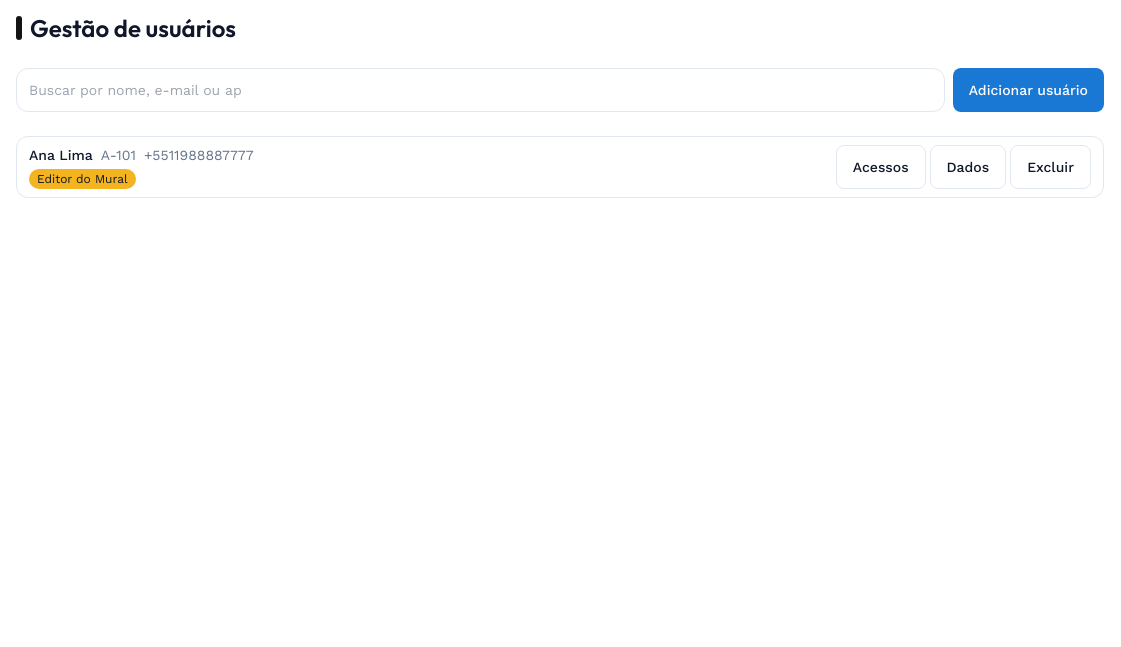
AccessManagementPage › criar usuário avisa que o link para criar a senha foi pelo WhatsApp (sem senha)
Expected: the text "Ana Lima" is shown, top-left (29, 145), bottom-right (93, 165)
Click the button "Adicionar usuário".
click(1028, 90)  # box top-left (953, 68), bottom-right (1104, 112)
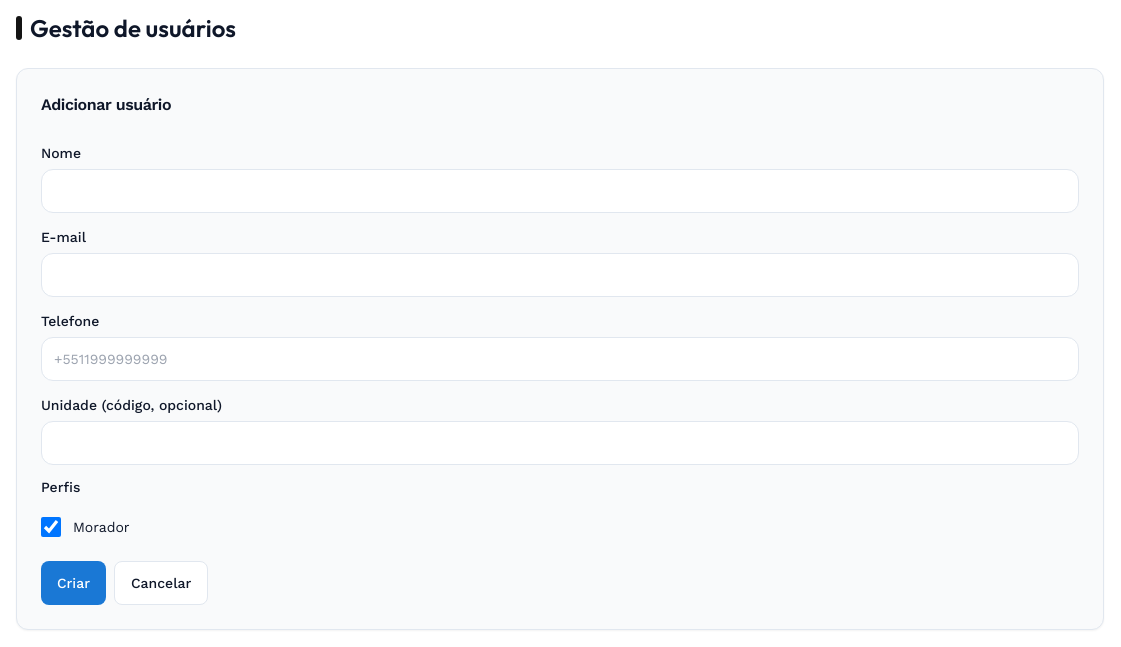
Type "Caio Reis" into the field labelled "Nome".
click(560, 191); type("Caio Reis")  # box top-left (41, 169), bottom-right (1079, 213)
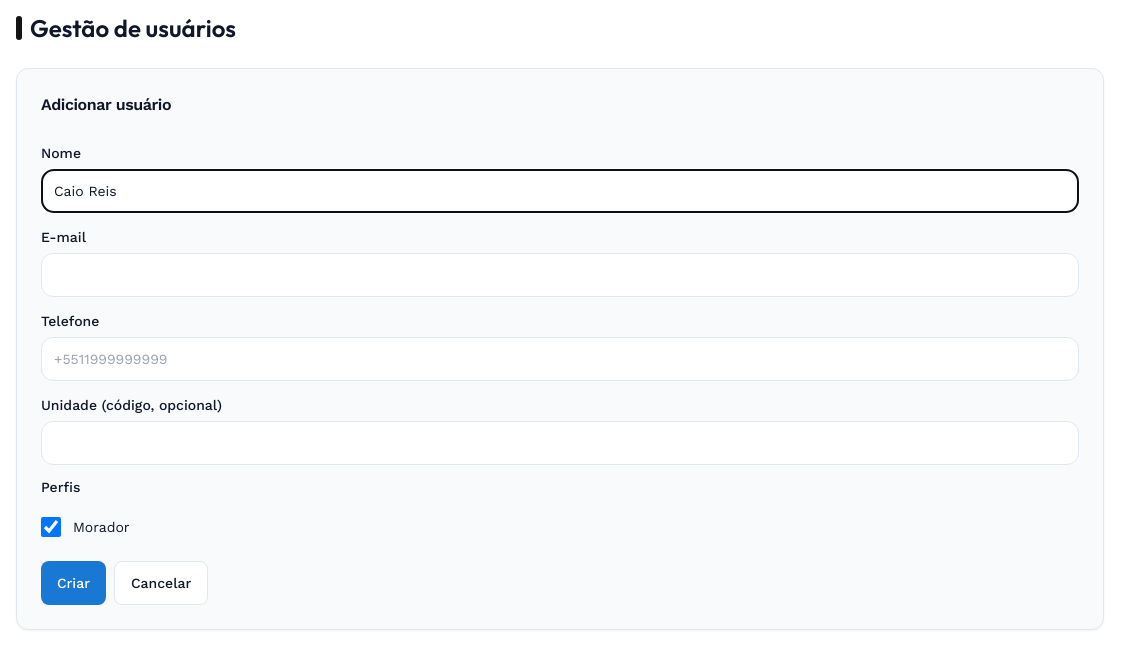
Type "caio@x.com" into the field labelled "E-mail".
click(560, 275); type("caio@x.com")  # box top-left (41, 253), bottom-right (1079, 297)
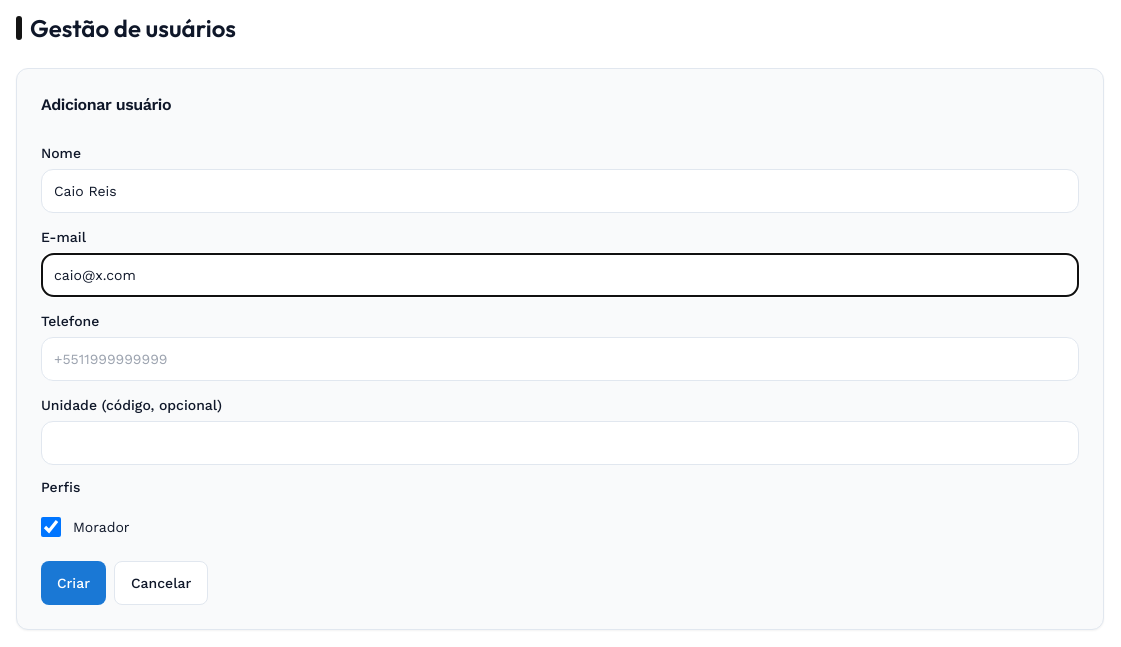
Type "+5511999994321" into the field labelled "Telefone".
click(560, 359); type("+5511999994321")  # box top-left (41, 337), bottom-right (1079, 381)
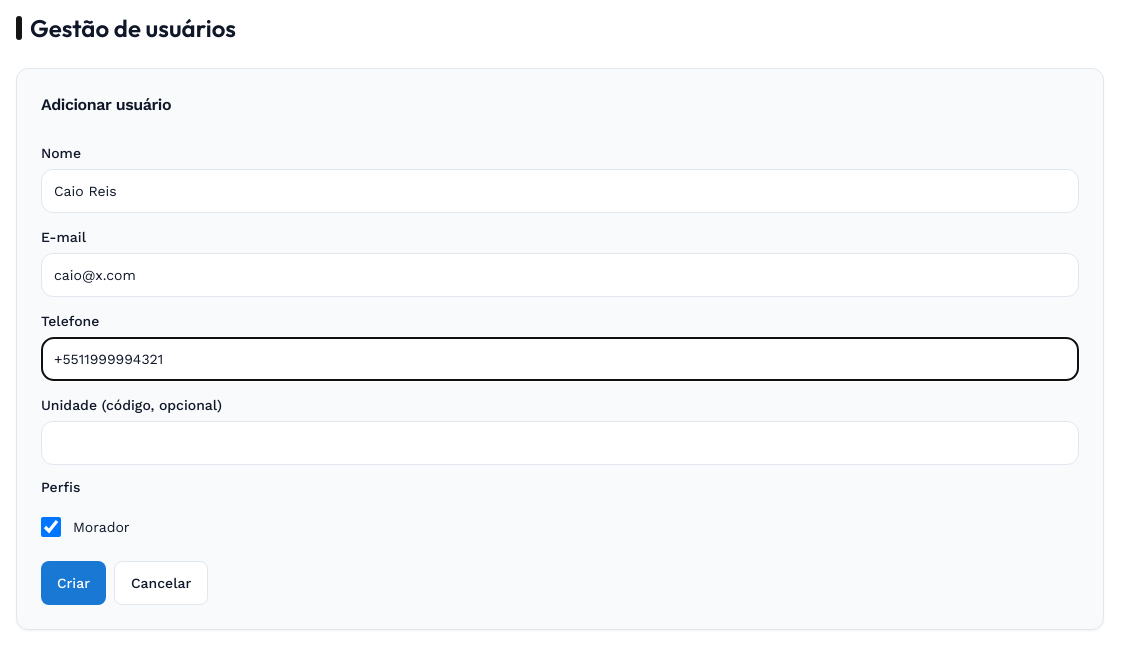
Click the button "Criar".
click(74, 583)  # box top-left (41, 561), bottom-right (106, 605)
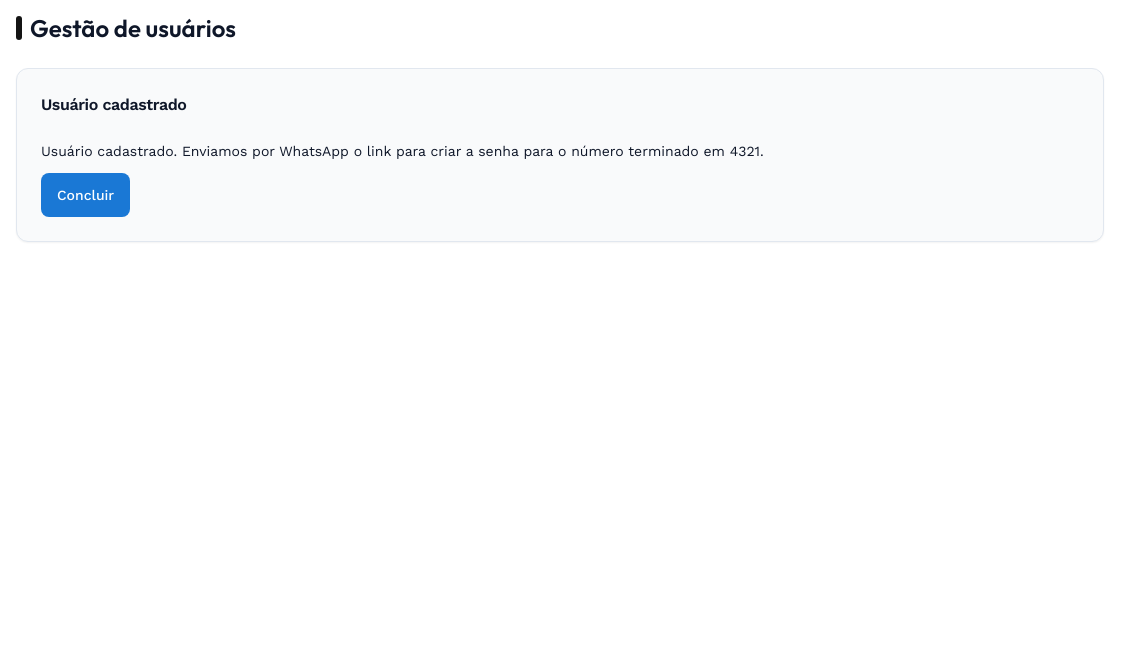
Expected: the text "Usuário cadastrado. Enviamos por WhatsApp o link para criar a senha para o número terminado em 4321." is shown, top-left (41, 143), bottom-right (764, 159)
